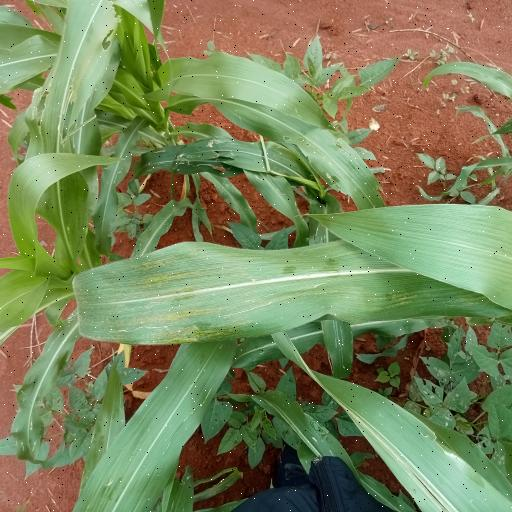Corn_Brown_Spots: (64, 238, 512, 337)
